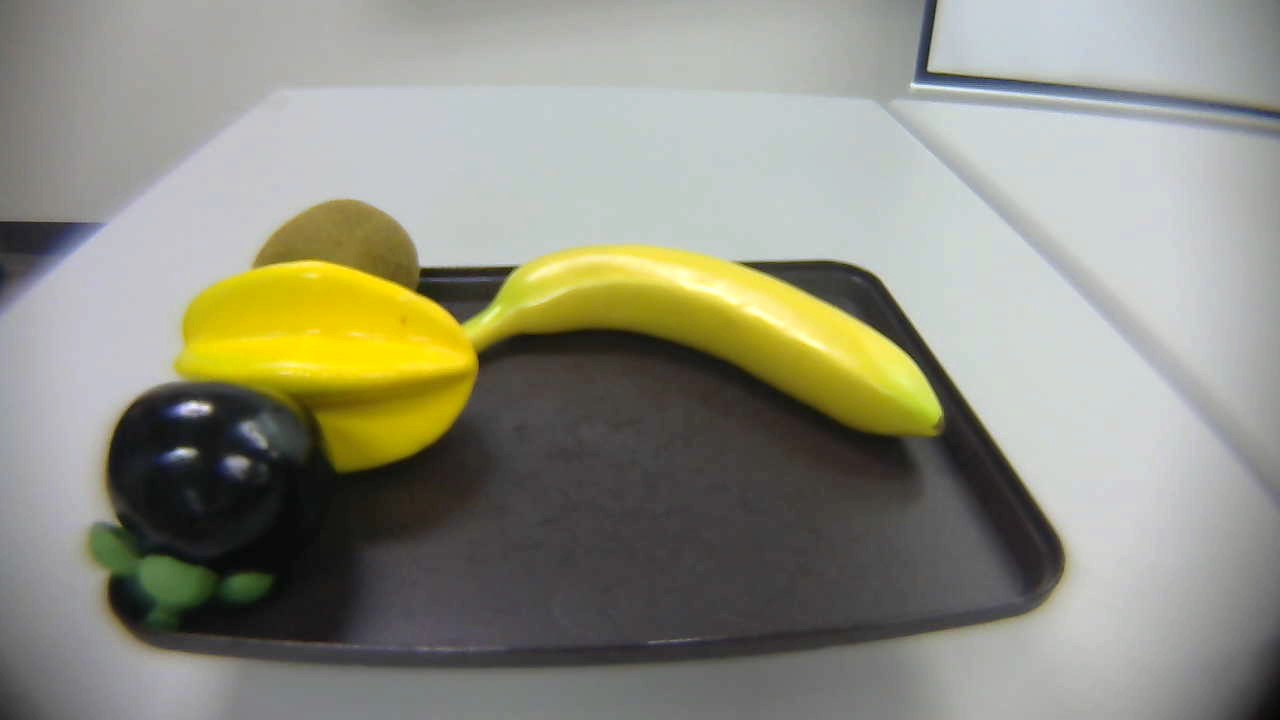banana: (460, 239, 957, 466)
kiwi fruit: (245, 199, 425, 298)
mangosteen: (84, 375, 330, 643)
star fruit: (170, 263, 480, 478)
